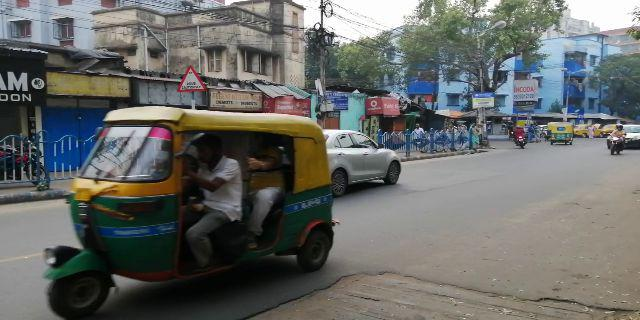Autorickshaw: (73, 107, 339, 299), (548, 126, 571, 144)
Car: (321, 127, 402, 194)
Motorbike: (606, 120, 625, 157)
